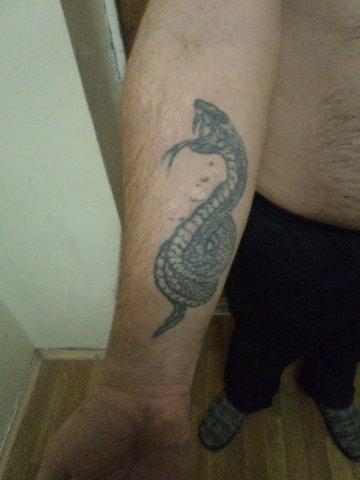tatu7_zmeya: (152, 90, 252, 347)
